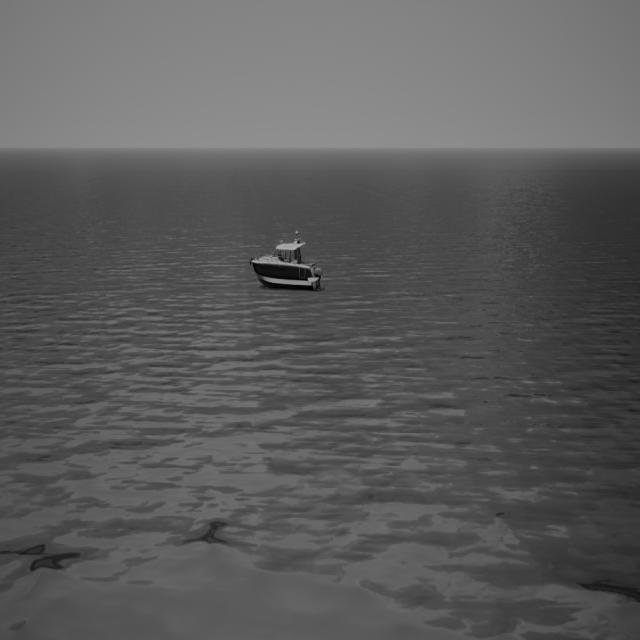ship: (249, 228, 323, 290)
